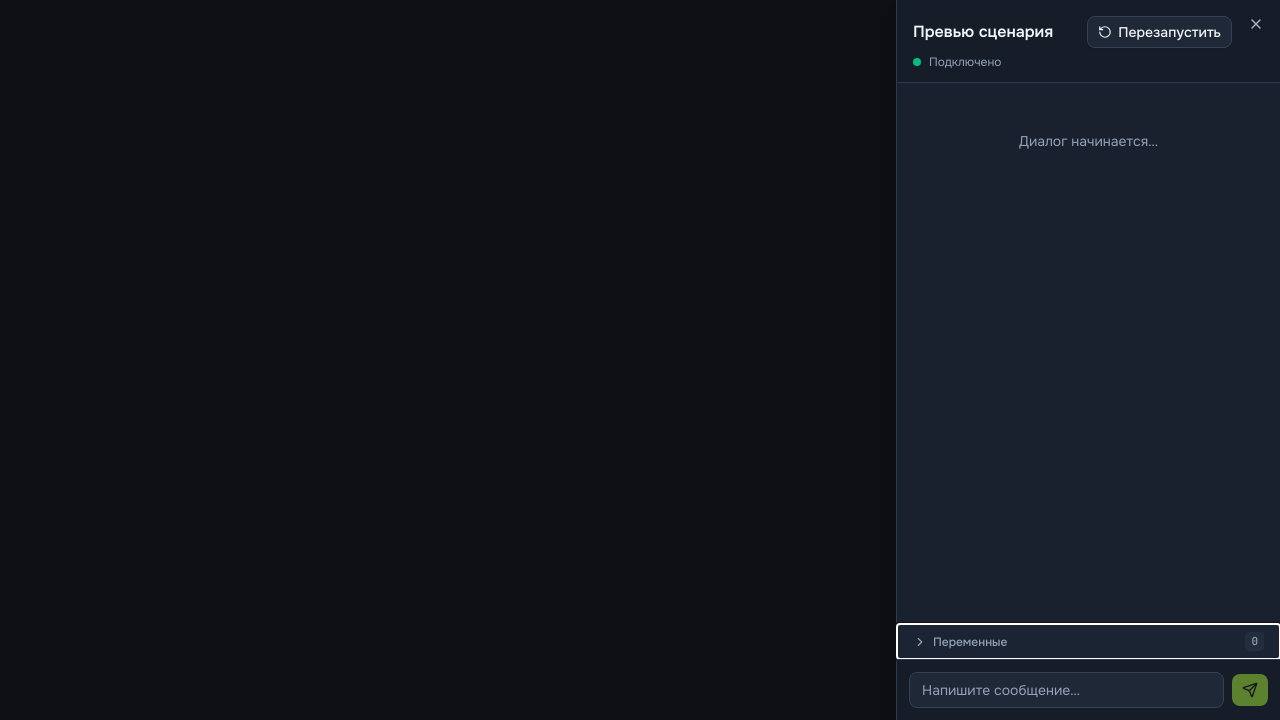
PreviewPanel › отправляет текст через форму ввода и перезапускает диалог по кнопке
In the field named "Сообщение в превью": point(1066, 690) [909, 672, 1224, 708], type "Привет, бот"
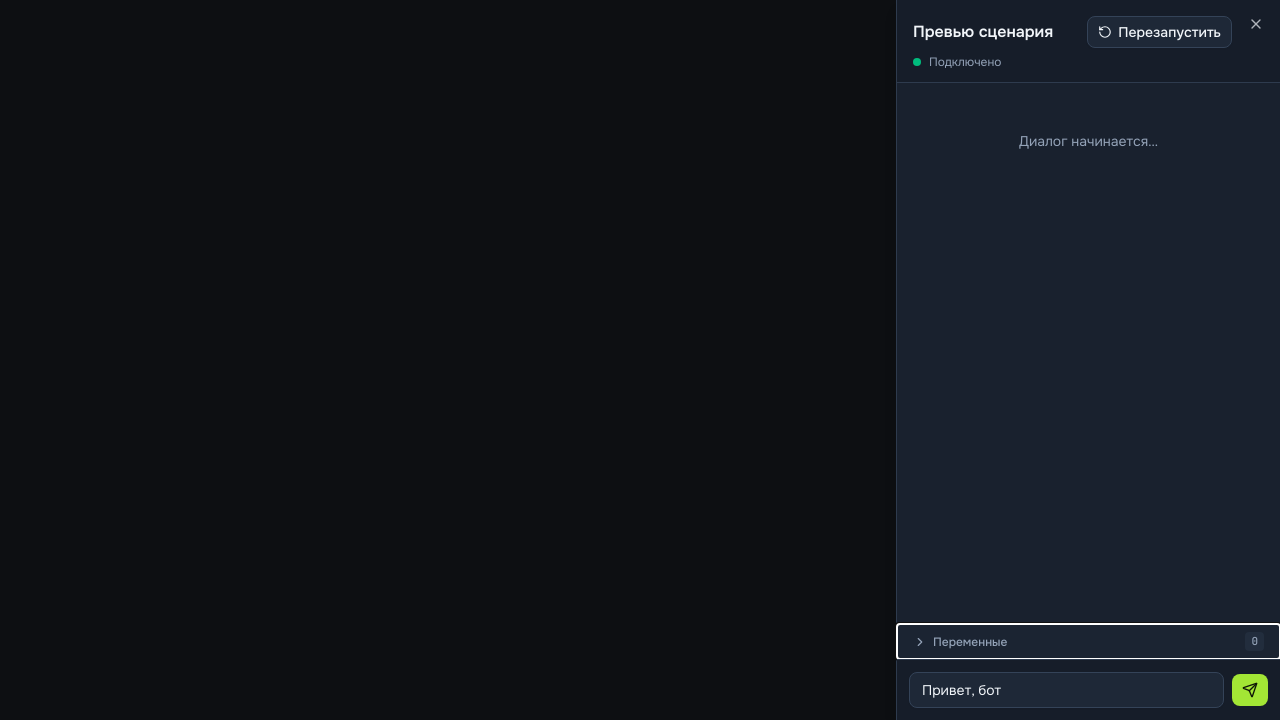
Click the button named "Отправить": point(1250, 690) [1232, 674, 1268, 706]
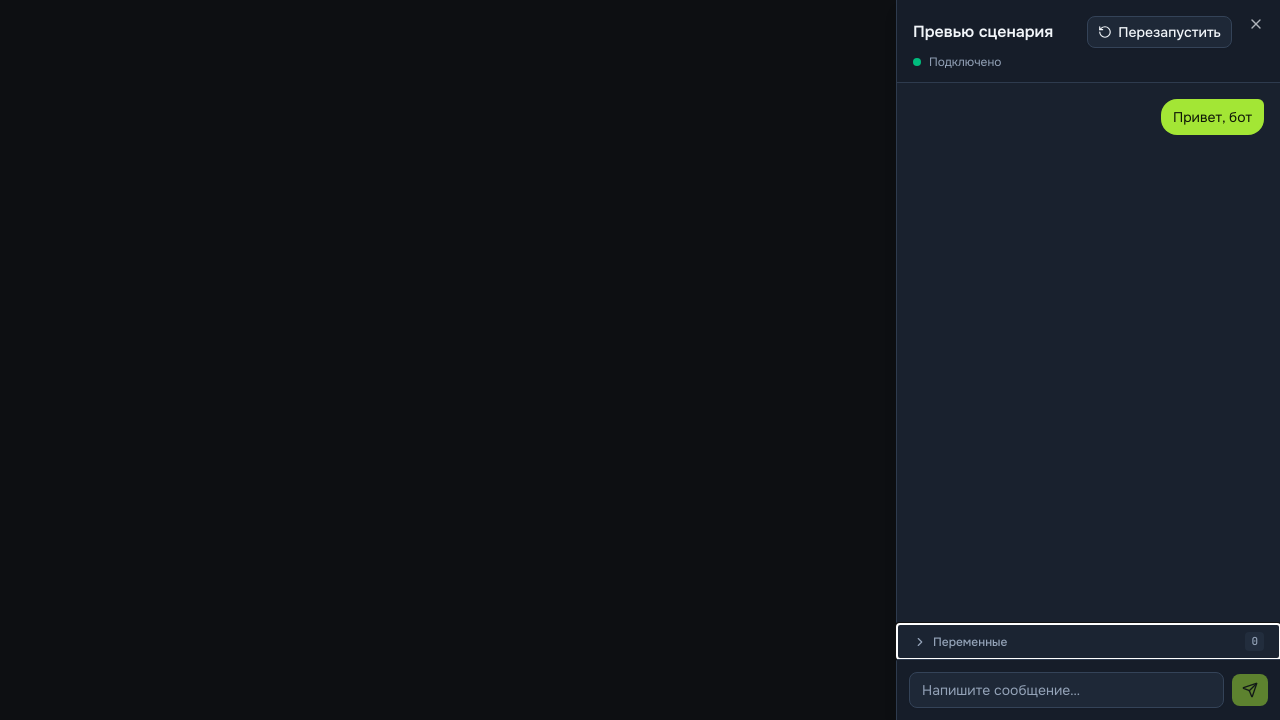
Result: the text "Привет, бот" is shown at [1161, 99, 1264, 135]
Click the button "Перезапустить": point(1160, 32) [1087, 16, 1232, 48]
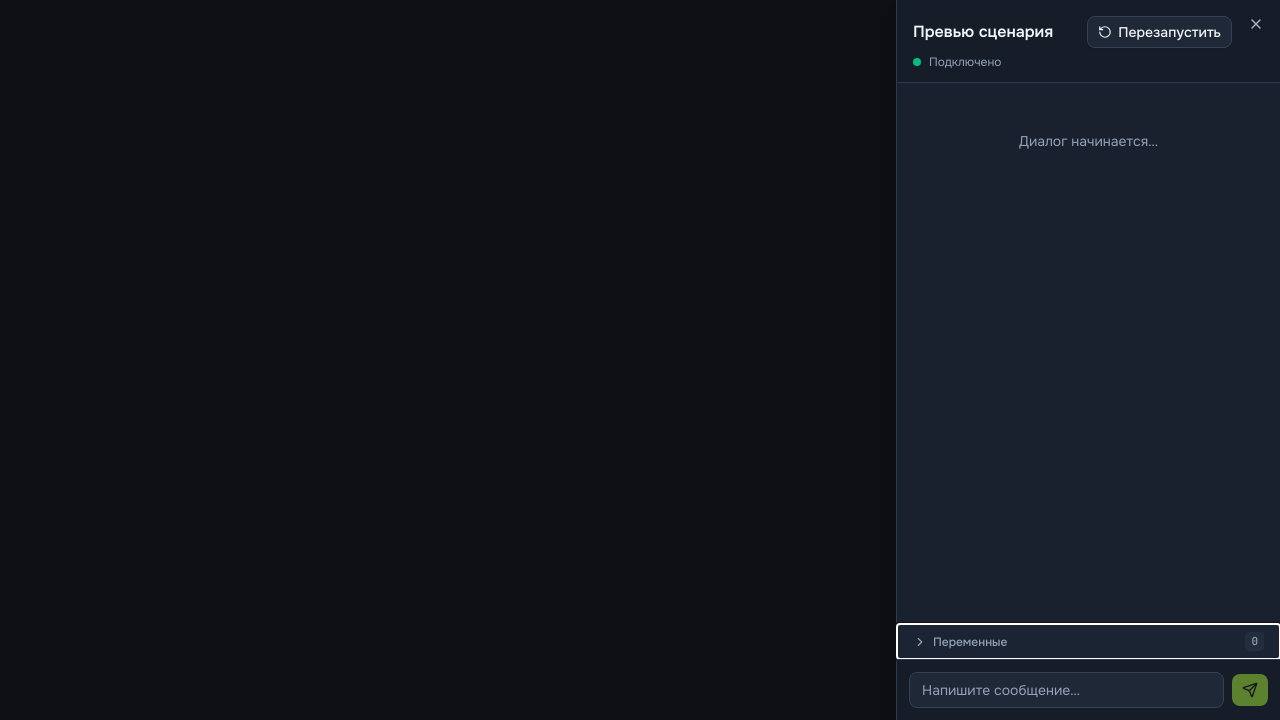
Result: the text "Привет, бот" is gone
